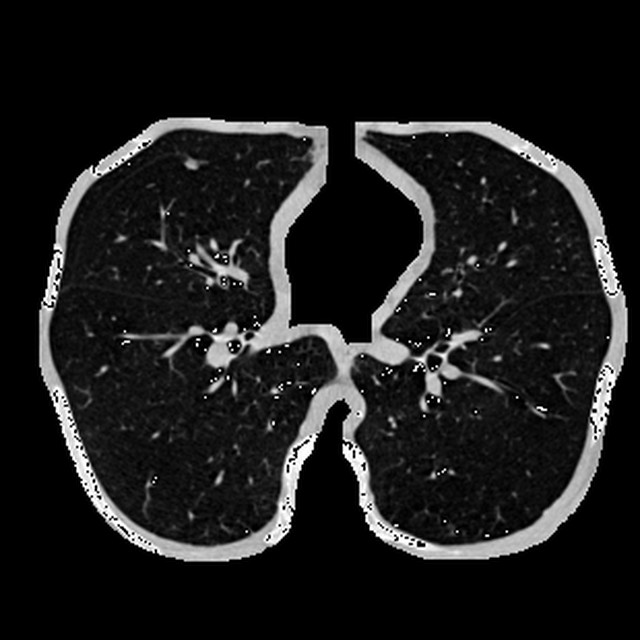PN: (188, 159, 196, 167)
